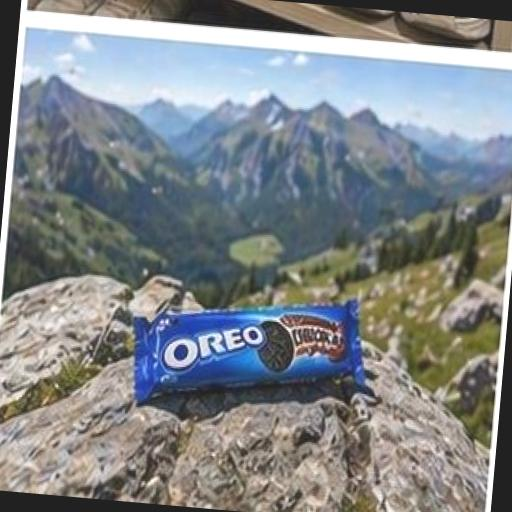oreo: (76, 236, 420, 440)
